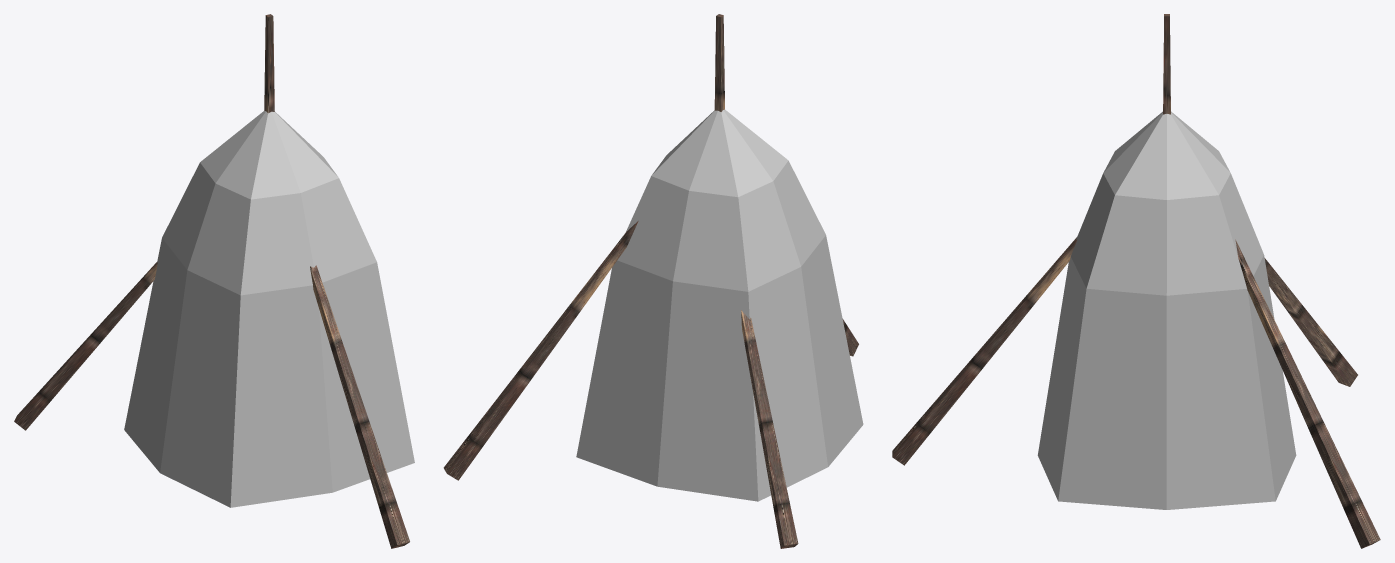
File: HayStack.fbx
3 renders of one model, left to right at view 1: azimuth 30°, elevation 25°; view 2: azimuth 150°, elevation 25°; view 3: azimuth 270°, elevation 25°, orthographic. The views are drawn at different scales.
Visible parts, largest first — view 1: Cube, Cube.002, Cube.004, Cube.001; view 2: Cube, Cube.003, Cube.004, Cube.001; view 3: Cube, Cube.003, Cube.002, Cube.004, Cube.001.
Part boxes in pixels (x1=…): Cube: x1=124, y1=110, x2=414, y2=507; Cube.002: x1=310, y1=265, x2=409, y2=548; Cube.004: x1=14, y1=262, x2=157, y2=430; Cube.001: x1=264, y1=14, x2=274, y2=113; Cube: x1=576, y1=109, x2=863, y2=501; Cube.003: x1=443, y1=221, x2=638, y2=480; Cube.004: x1=741, y1=310, x2=798, y2=548; Cube.001: x1=714, y1=14, x2=724, y2=111; Cube: x1=1037, y1=111, x2=1296, y2=509; Cube.003: x1=1235, y1=239, x2=1380, y2=548; Cube.002: x1=892, y1=237, x2=1076, y2=465; Cube.004: x1=1264, y1=258, x2=1357, y2=386; Cube.001: x1=1163, y1=14, x2=1170, y2=114.
Size of the model in its own units: 298 by 357 by 354.
